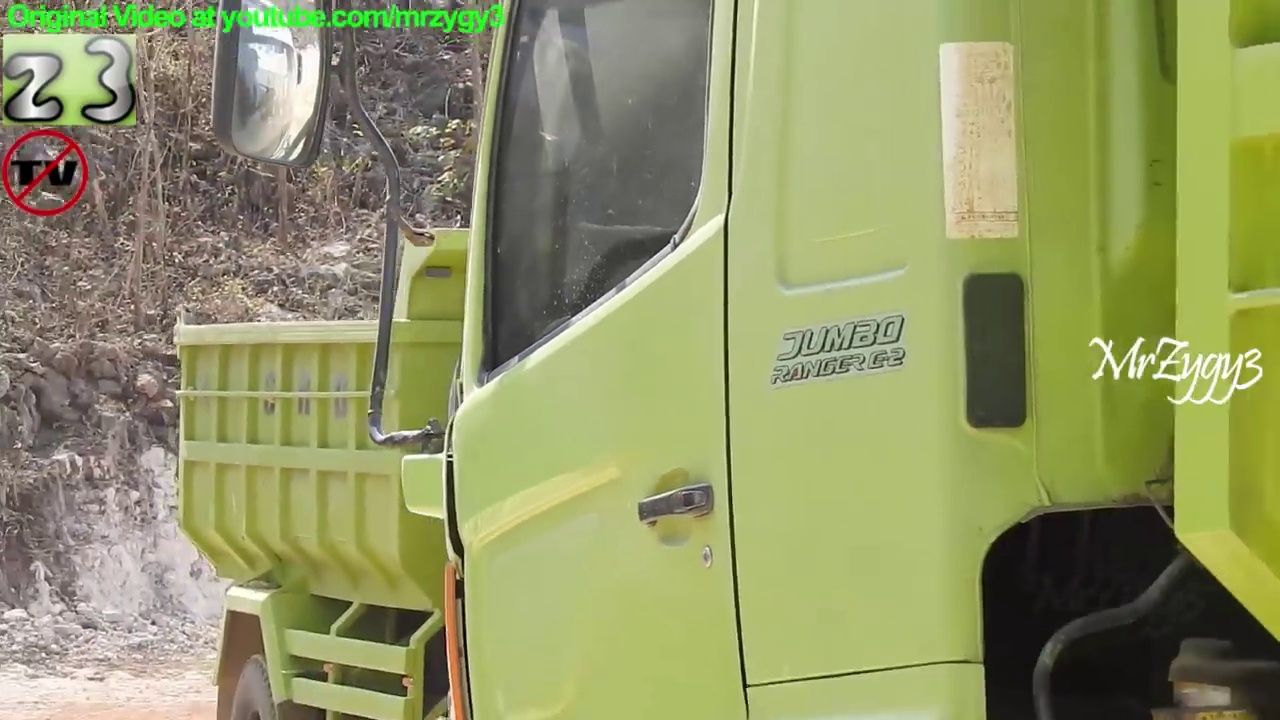truck: (200, 1, 1280, 720), (158, 212, 1280, 720)
